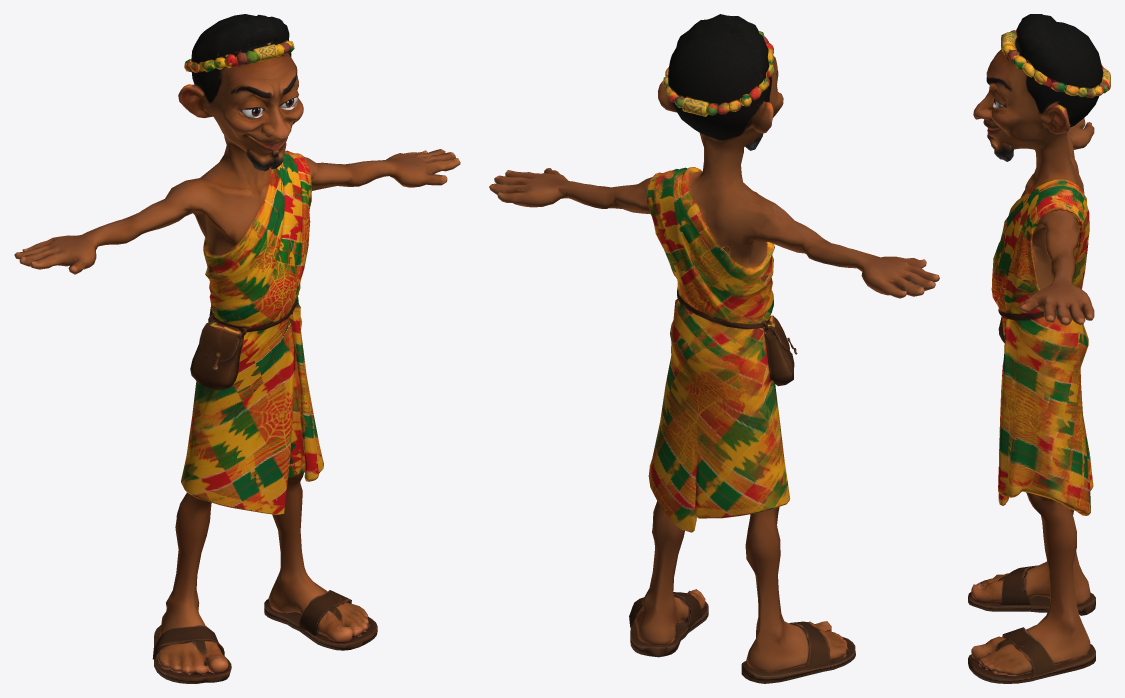
Rendered from ananse_raw.glb.
3 views of the same model, side by side, from view 1: azimuth 30°, elevation 25°; view 2: azimuth 150°, elevation 25°; view 3: azimuth 270°, elevation 25° (orthographic). The views are drawn at different scales.
Size of the model in its own units: 1.31 by 1.8 by 0.3788.
1 material, 1 textured.
